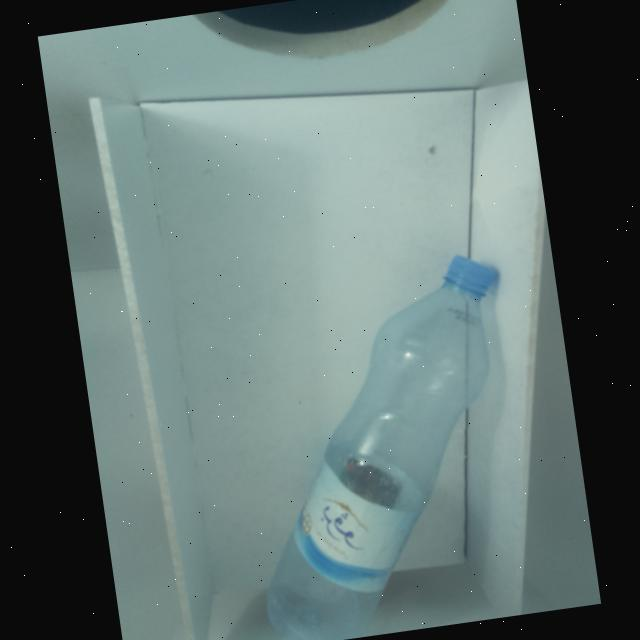trash: (196, 231, 550, 640)
